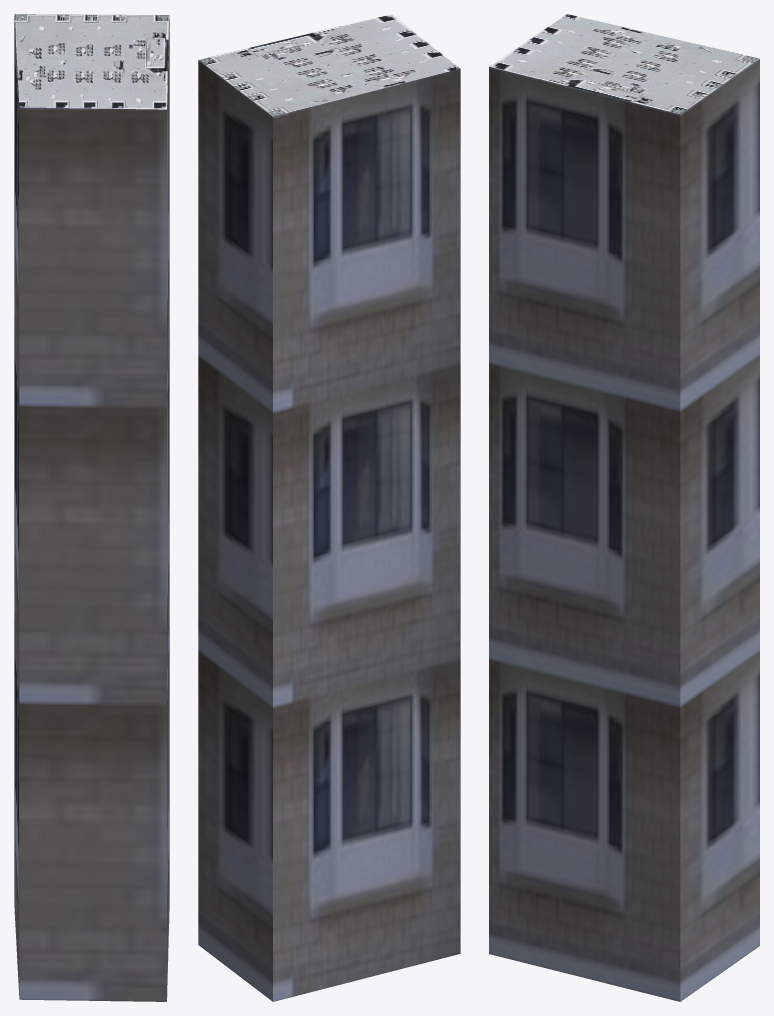
The model's file is ResTex__3616.fbx.
The picture shows the model from 3 angles, left to right: view 1: azimuth 30°, elevation 25°; view 2: azimuth 150°, elevation 25°; view 3: azimuth 270°, elevation 25°; orthographic projection.
Parts seen in each view (by area): view 1: CityEngineMaterial_3_m, CityEngineMaterial_4_m; view 2: CityEngineMaterial_3_m, CityEngineMaterial_4_m; view 3: CityEngineMaterial_3_m, CityEngineMaterial_4_m.
Part boxes in pixels (x1,y1,x2,y2): CityEngineMaterial_3_m: [14, 16, 169, 1001]; CityEngineMaterial_4_m: [14, 14, 169, 109]; CityEngineMaterial_3_m: [198, 60, 460, 1001]; CityEngineMaterial_4_m: [199, 14, 459, 116]; CityEngineMaterial_3_m: [489, 59, 759, 1001]; CityEngineMaterial_4_m: [489, 14, 759, 114].
Bounding box in the file's own units: 2.19 × 9 × 2.49.
Materials: 2 (2 with a texture image).
